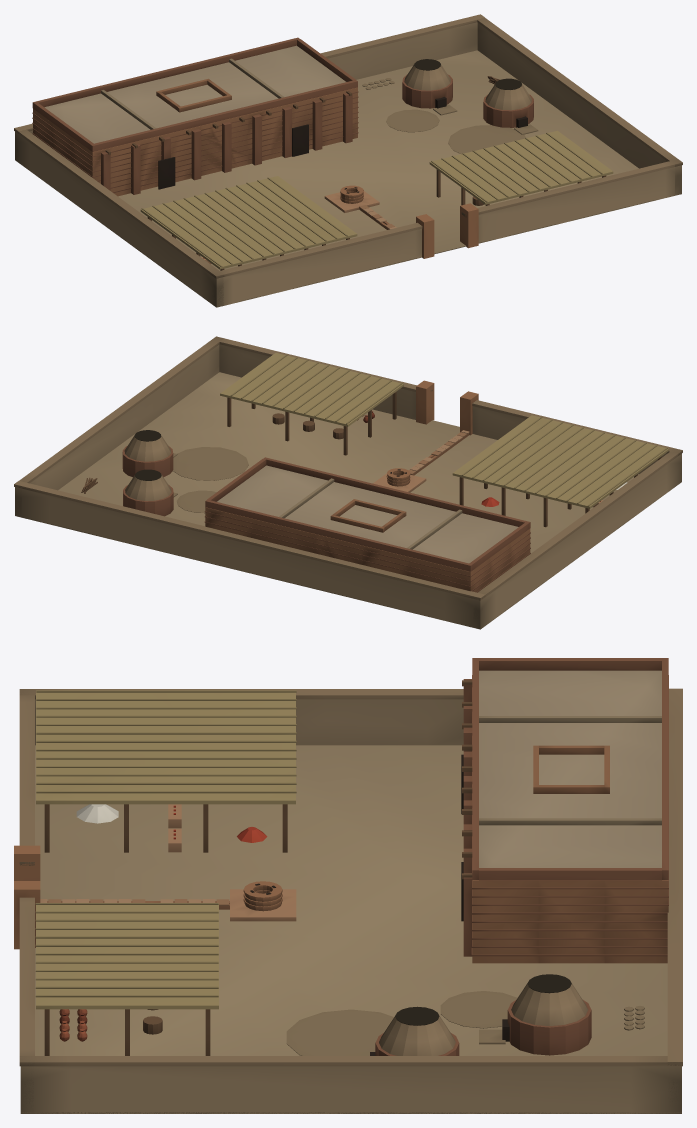
Rendered from craft-quarter.glb.
3 views of the same model, one above another, from view 1: azimuth 30°, elevation 25°; view 2: azimuth 150°, elevation 25°; view 3: azimuth 270°, elevation 25° (orthographic). The views are drawn at different scales.
Parts seen in each view (by area): view 1: p0_yard and storehouse, p2_roofs, p1_kilns and workshops; view 2: p0_yard and storehouse, p2_roofs, p1_kilns and workshops; view 3: p0_yard and storehouse, p2_roofs, p1_kilns and workshops.
Boxes of the visible parts, box(x1,y1,x2,y2) form: p0_yard and storehouse: box(14, 14, 682, 307); p2_roofs: box(32, 37, 613, 269); p1_kilns and workshops: box(147, 59, 606, 270); p0_yard and storehouse: box(14, 336, 682, 629); p2_roofs: box(205, 353, 669, 571); p1_kilns and workshops: box(81, 391, 661, 527); p0_yard and storehouse: box(14, 675, 682, 1113); p2_roofs: box(35, 658, 668, 1009); p1_kilns and workshops: box(44, 804, 644, 1055).
Size of the model in its own units: 40.1 by 4.72 by 30.35.
